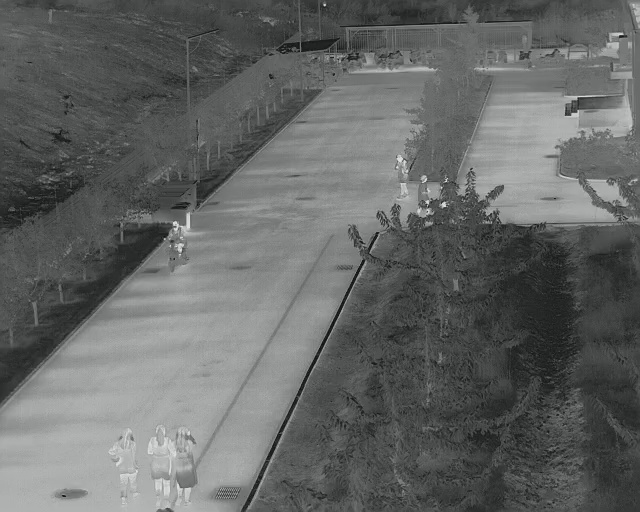NonMotorVehicle: (164, 221, 189, 270)
person: (108, 427, 142, 505), (146, 422, 172, 510), (172, 426, 200, 507), (393, 153, 410, 200), (417, 173, 431, 210)
